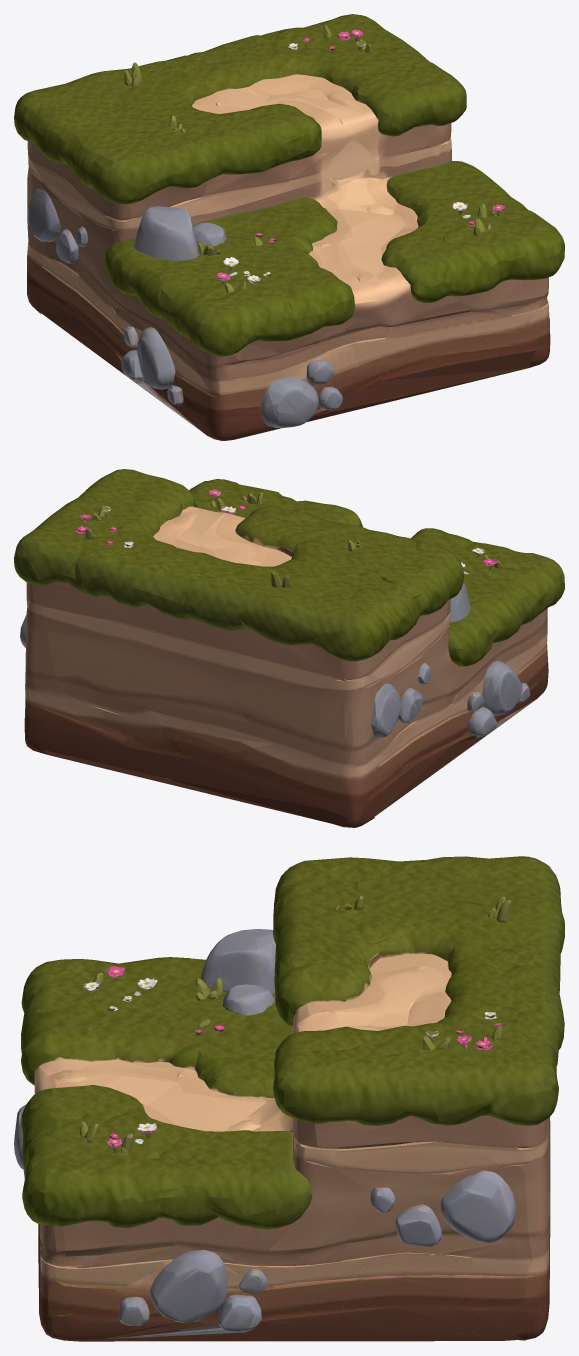
Rendered from island_chunk.fbx.
The picture shows the model from 3 angles, top to bottom: view 1: azimuth 30°, elevation 25°; view 2: azimuth 150°, elevation 25°; view 3: azimuth 270°, elevation 25°; orthographic projection. The views are drawn at different scales.
Visible parts, largest first — view 1: Mesh_0; view 2: Mesh_0; view 3: Mesh_0.
Boxes of the visible parts, x1,y1,x2,y2 form: Mesh_0: (14, 14, 564, 440); Mesh_0: (14, 469, 564, 827); Mesh_0: (14, 856, 564, 1341).
Size of the model in its own units: 1.9 by 1.12 by 1.88.
1 material, 1 textured.
